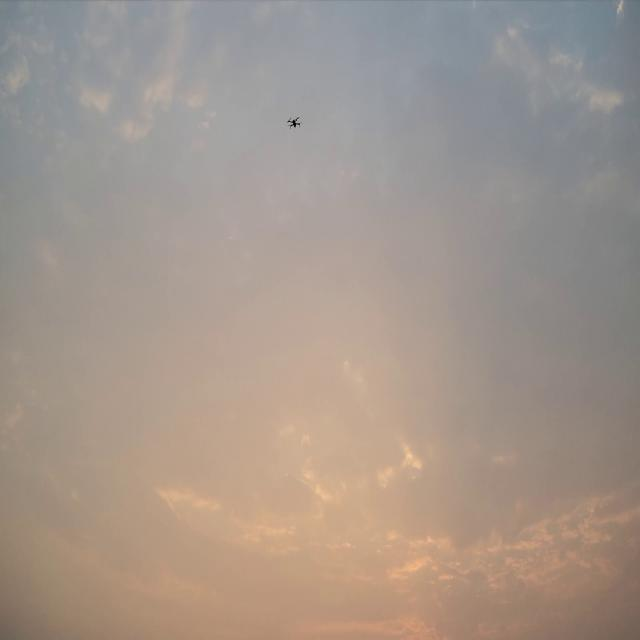UAV: (287, 117, 302, 129)
